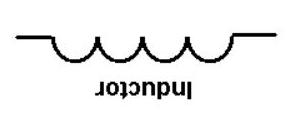inductor: (47, 16, 259, 68)
